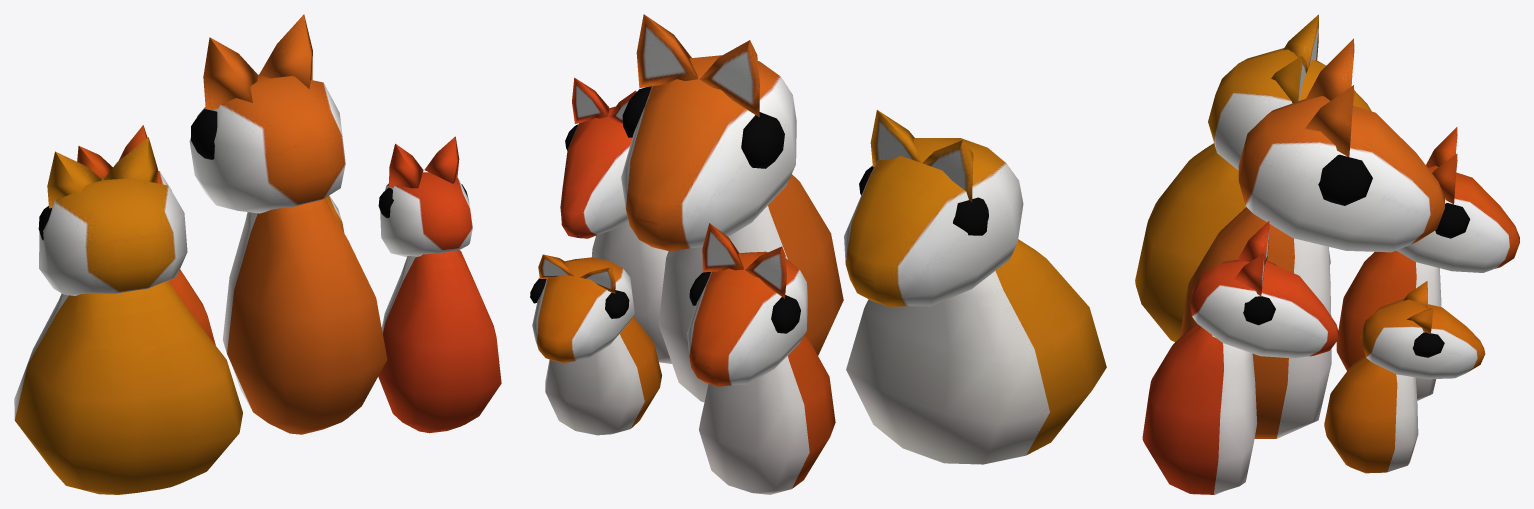
Rendered from babies_posed.FBX.
3 views of the same model, side by side, from view 1: azimuth 30°, elevation 25°; view 2: azimuth 150°, elevation 25°; view 3: azimuth 270°, elevation 25° (orthographic). The views are drawn at different scales.
Visible parts, largest first — view 1: baby03, baby01, baby05, baby04; view 2: baby03, baby01, baby04, baby02, baby05; view 3: baby01, baby05, baby03, baby02, baby04.
Part boxes in pixels (x1=…): baby03: x1=14, y1=137, x2=242, y2=494; baby01: x1=189, y1=14, x2=387, y2=434; baby05: x1=378, y1=136, x2=501, y2=433; baby04: x1=77, y1=125, x2=215, y2=345; baby03: x1=844, y1=110, x2=1106, y2=464; baby01: x1=621, y1=14, x2=843, y2=402; baby04: x1=687, y1=223, x2=835, y2=494; baby02: x1=530, y1=254, x2=661, y2=435; baby05: x1=560, y1=77, x2=671, y2=363; baby01: x1=1179, y1=38, x2=1444, y2=438; baby05: x1=1142, y1=221, x2=1339, y2=494; baby03: x1=1135, y1=14, x2=1371, y2=341; baby02: x1=1324, y1=281, x2=1485, y2=473; baby04: x1=1336, y1=127, x2=1519, y2=400.
Bounding box in the file's own units: 0.2004 × 0.1612 × 0.1483.
